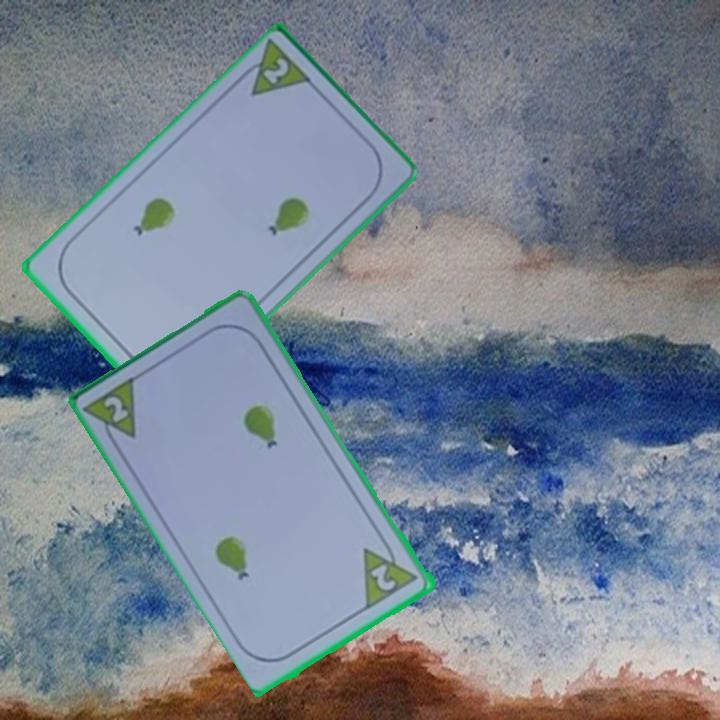2p: (359, 534, 422, 612), (258, 55, 292, 88), (100, 392, 133, 426)
